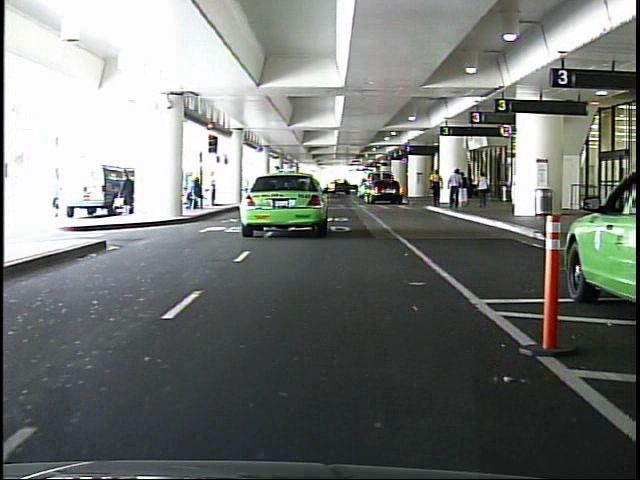person: (45, 162, 69, 223), (473, 168, 494, 217), (121, 169, 142, 218), (446, 163, 465, 211), (427, 166, 447, 211), (207, 170, 221, 213), (459, 171, 471, 212)
